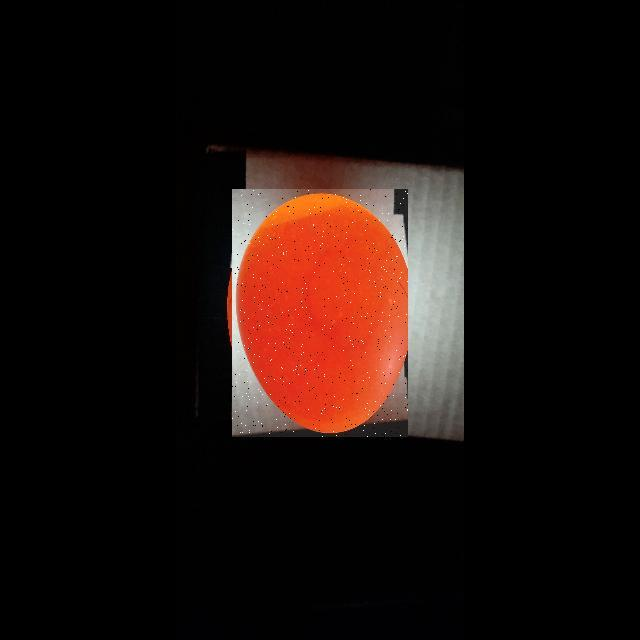Fertile: (232, 189, 408, 437)
